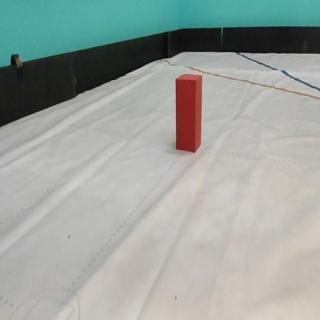redbox: (173, 72, 202, 152)
